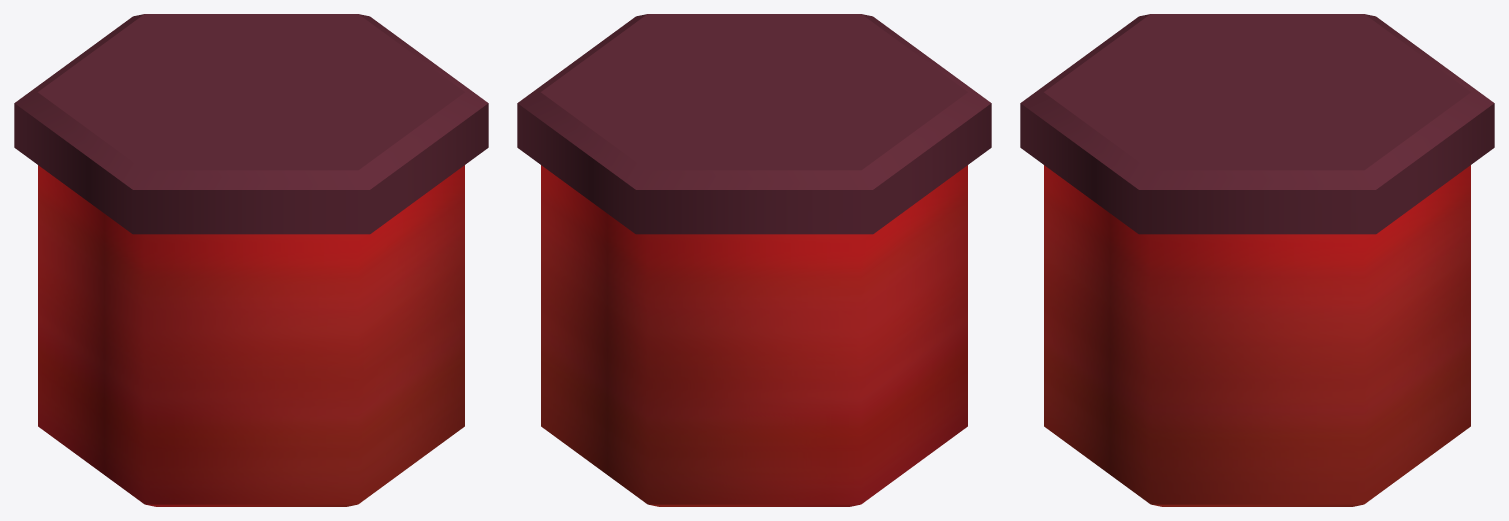
File: Jar_2_B.fbx
The picture shows the model from 3 angles, left to right: view 1: azimuth 30°, elevation 25°; view 2: azimuth 150°, elevation 25°; view 3: azimuth 270°, elevation 25°; orthographic projection.
Parts seen in each view (by area): view 1: Jar_2_B; view 2: Jar_2_B; view 3: Jar_2_B.
Boxes of the visible parts, x1=… form: Jar_2_B: x1=14, y1=14, x2=488, y2=506; Jar_2_B: x1=517, y1=14, x2=991, y2=506; Jar_2_B: x1=1020, y1=14, x2=1494, y2=506.
Bounding box in the file's own units: 17.99 × 16.69 × 20.77.
